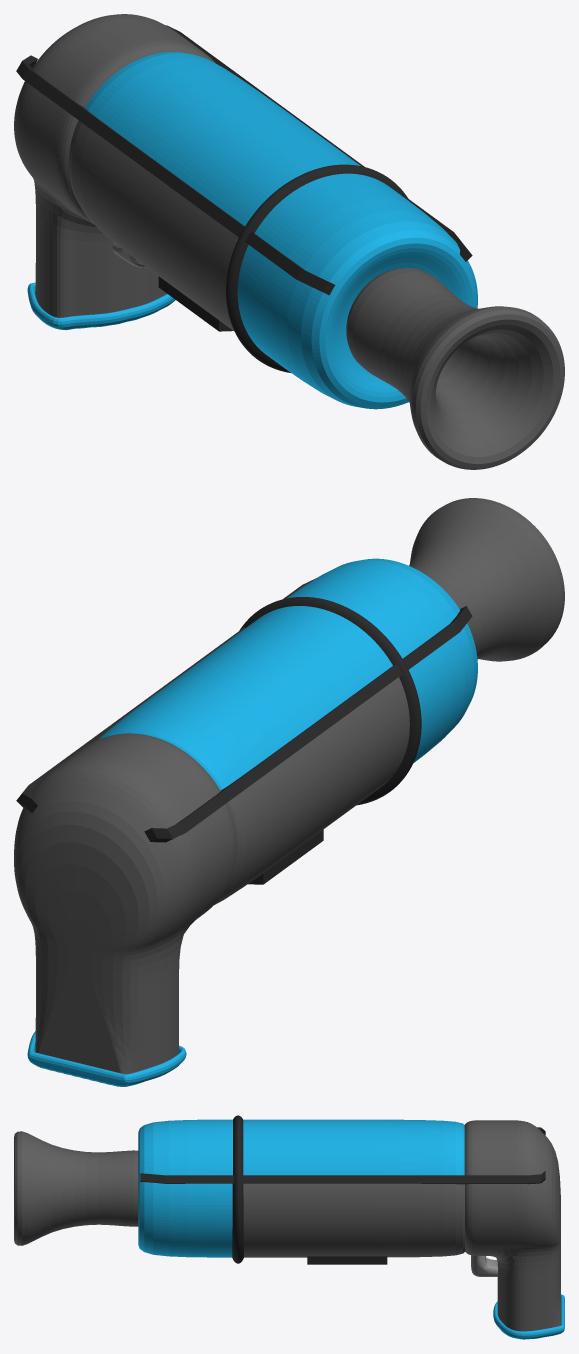
Rendered from Spray Gun.fbx.
3 views of the same model, one above another, from view 1: azimuth 30°, elevation 25°; view 2: azimuth 150°, elevation 25°; view 3: azimuth 270°, elevation 25° (orthographic). The views are drawn at different scales.
Visible parts, largest first — view 1: Part 1, Part 1.001, Part 2, Line, Torus, Part 2.001, Mag?; view 2: Part 1, Part 2, Part 1.001, Line, Torus, Part 2.001, Mag?; view 3: Part 1, Part 2, Part 1.001, Line, Torus, Part 2.001, Mag?, Trigger.
Part boxes in pixels (x1,y1,x2,y2): Part 1: (68, 52, 477, 409); Part 1.001: (346, 268, 564, 469); Part 2: (14, 14, 215, 317); Line: (16, 25, 472, 295); Torus: (226, 164, 408, 372); Part 2.001: (27, 282, 175, 330); Mag?: (158, 276, 232, 331); Part 1: (98, 558, 477, 904); Part 2: (14, 733, 236, 1074); Part 1.001: (409, 498, 564, 661); Line: (16, 578, 472, 842); Torus: (239, 597, 421, 805); Part 2.001: (27, 1031, 186, 1086); Mag?: (248, 829, 323, 884); Part 1: (138, 1119, 465, 1257); Part 2: (464, 1120, 560, 1331); Part 1.001: (14, 1131, 138, 1245); Line: (140, 1127, 545, 1184); Torus: (232, 1115, 243, 1263); Part 2.001: (493, 1294, 564, 1339); Mag?: (307, 1256, 387, 1264); Trigger: (471, 1255, 497, 1276).
Size of the model in its own units: 371 by 552 by 1378.
